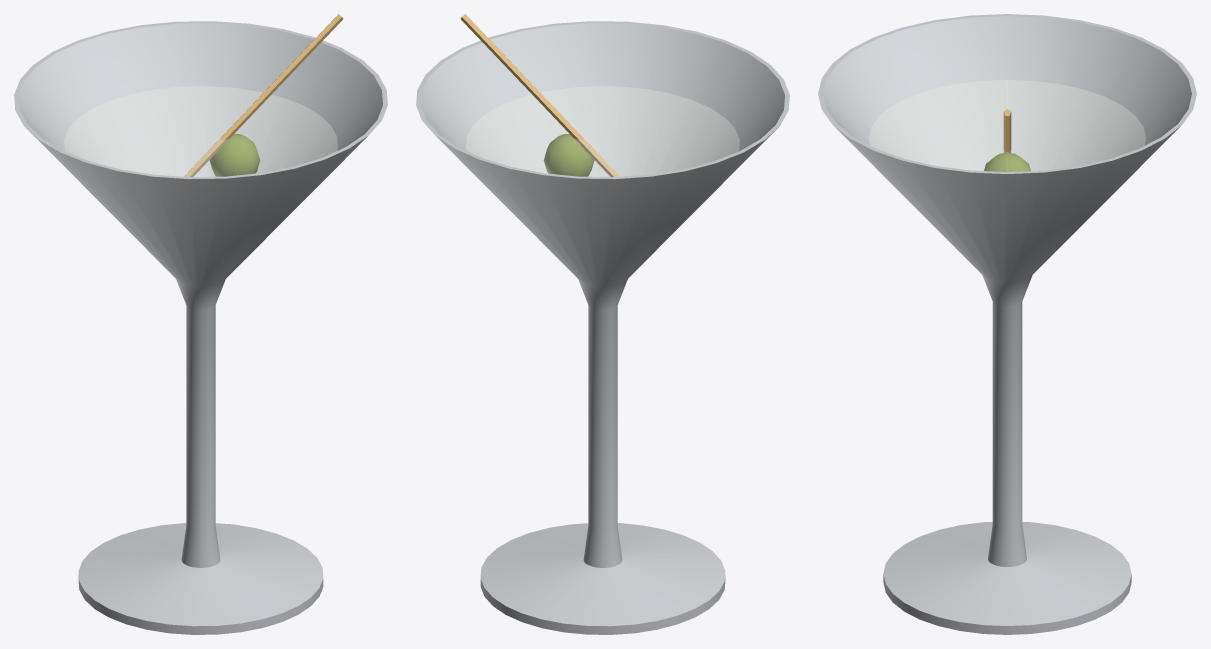
Rendered from KIT_Taca_Martini.glb.
The picture shows the model from 3 angles, left to right: view 1: azimuth 30°, elevation 25°; view 2: azimuth 150°, elevation 25°; view 3: azimuth 270°, elevation 25°; orthographic projection.
Visible parts, largest first — view 1: KIT_Taca_Martini; view 2: KIT_Taca_Martini; view 3: KIT_Taca_Martini.
Boxes of the visible parts, <box> form: KIT_Taca_Martini: <box>14,14,387,634</box>; KIT_Taca_Martini: <box>416,14,789,634</box>; KIT_Taca_Martini: <box>818,14,1196,634</box>.
Bounding box in the file's own units: 0.116 × 0.183 × 0.116.
